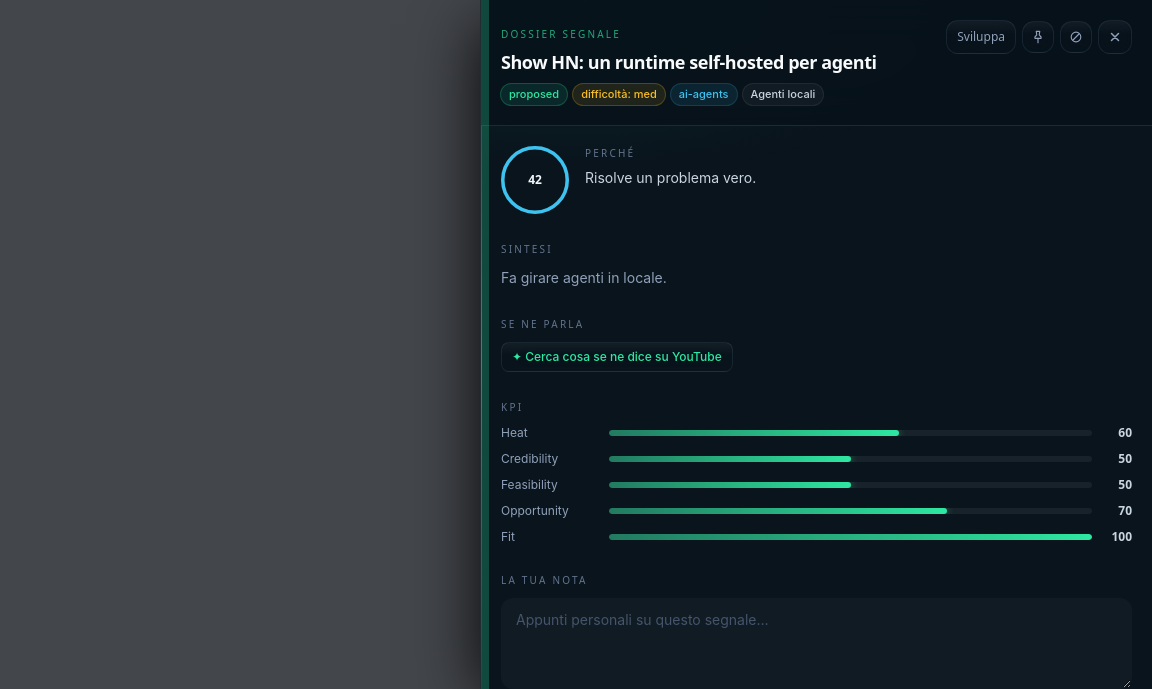
Scenario: IdeaVideos nel dossier › nessun video è un'informazione, non un buco
This screenshot has width=1152, height=689.
Click the button "✦ Cerca cosa se ne dice su YouTube" at (617, 357), box [501,342,733,372]
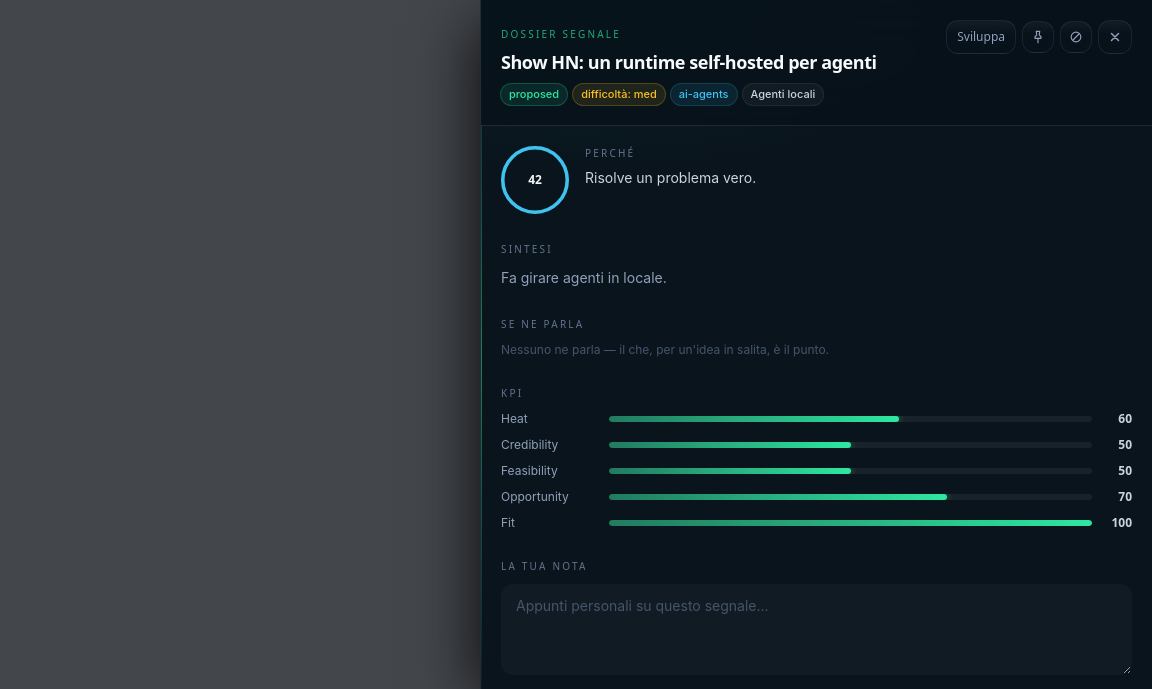
expect the text "Nessuno ne parla" is shown: met, box [501,342,829,357]
